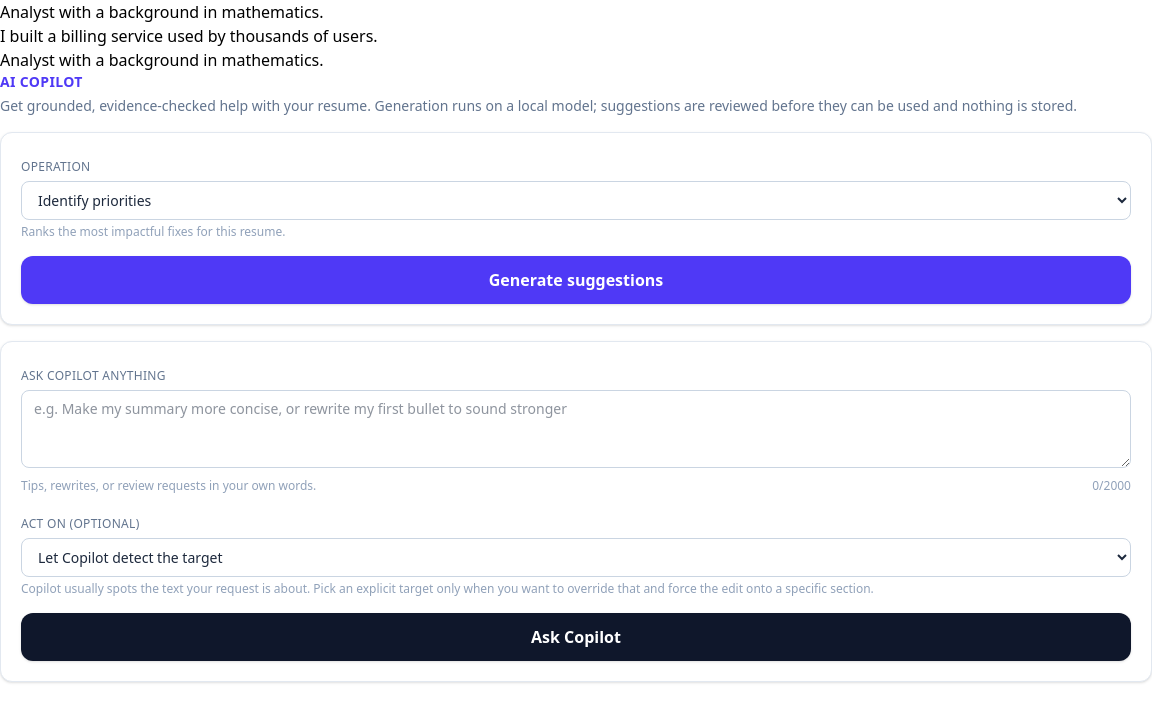
Test case: CopilotPanel edit proposals › dismisses a proposal without changing the resume
The width and height of the screenshot is (1152, 710).
Click the button "Generate suggestions" at (576, 280), box top-left (21, 256), bottom-right (1131, 304)
(page scrolled)
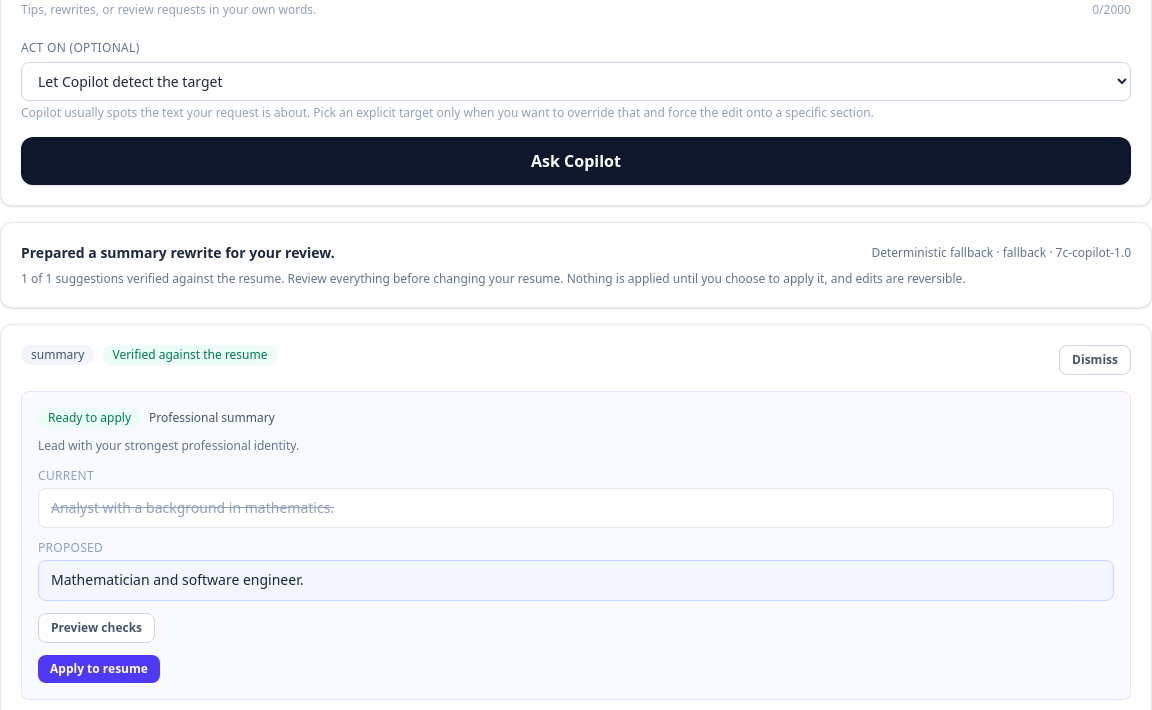
Check: the button "Preview checks" is shown, box top-left (38, 613), bottom-right (155, 643)
Click the button "Dismiss" at (1095, 360), box top-left (1059, 345), bottom-right (1131, 375)
(page scrolled)
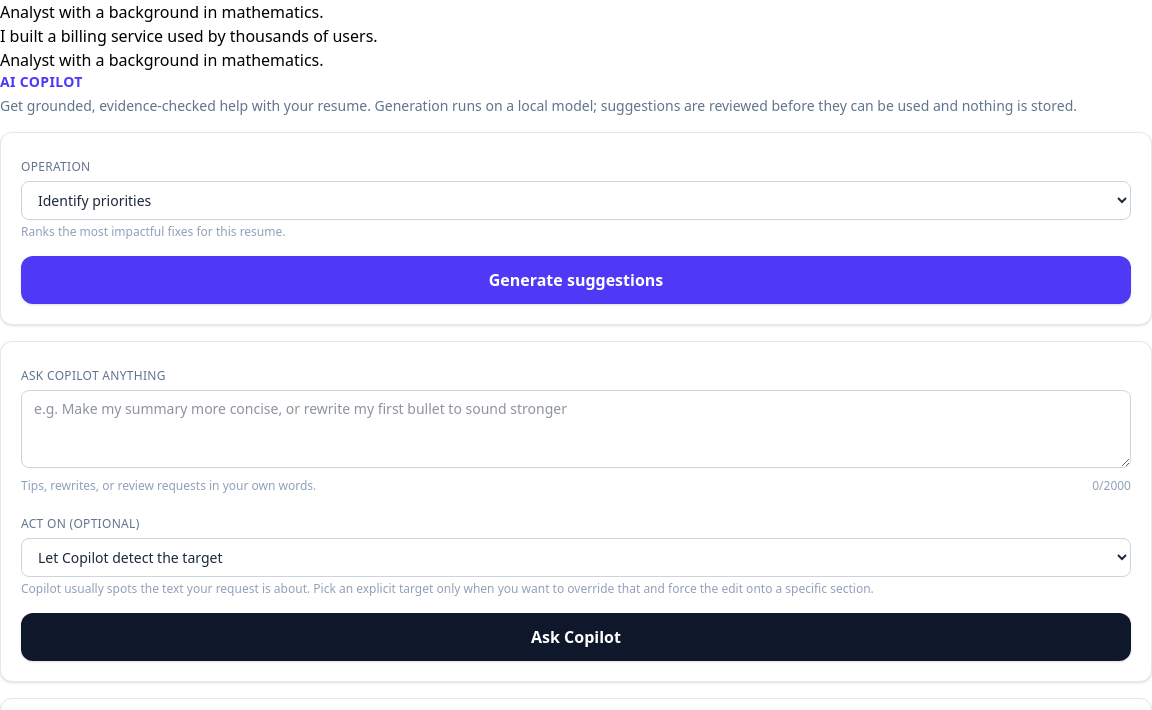
Check: the text with test id "summary" reads "Analyst with a background in mathematics.", box top-left (0, 1), bottom-right (324, 23)
Check: the text "Professional summary" is gone
